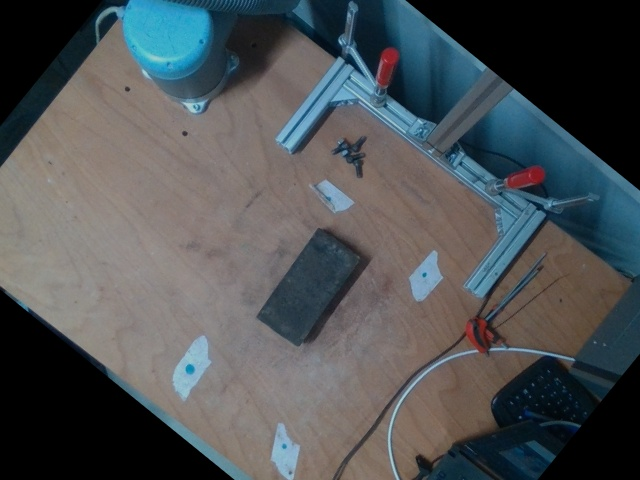brick: (256, 228, 360, 347)
